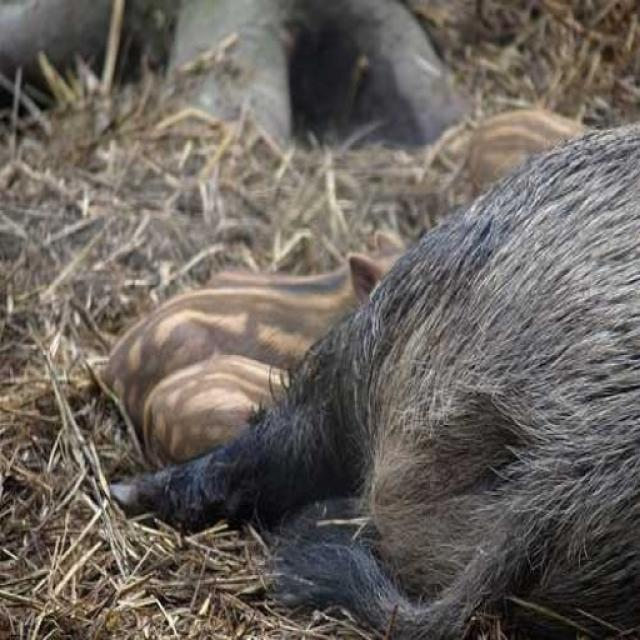pig: (148, 110, 640, 640), (117, 241, 391, 366), (131, 327, 277, 416)
